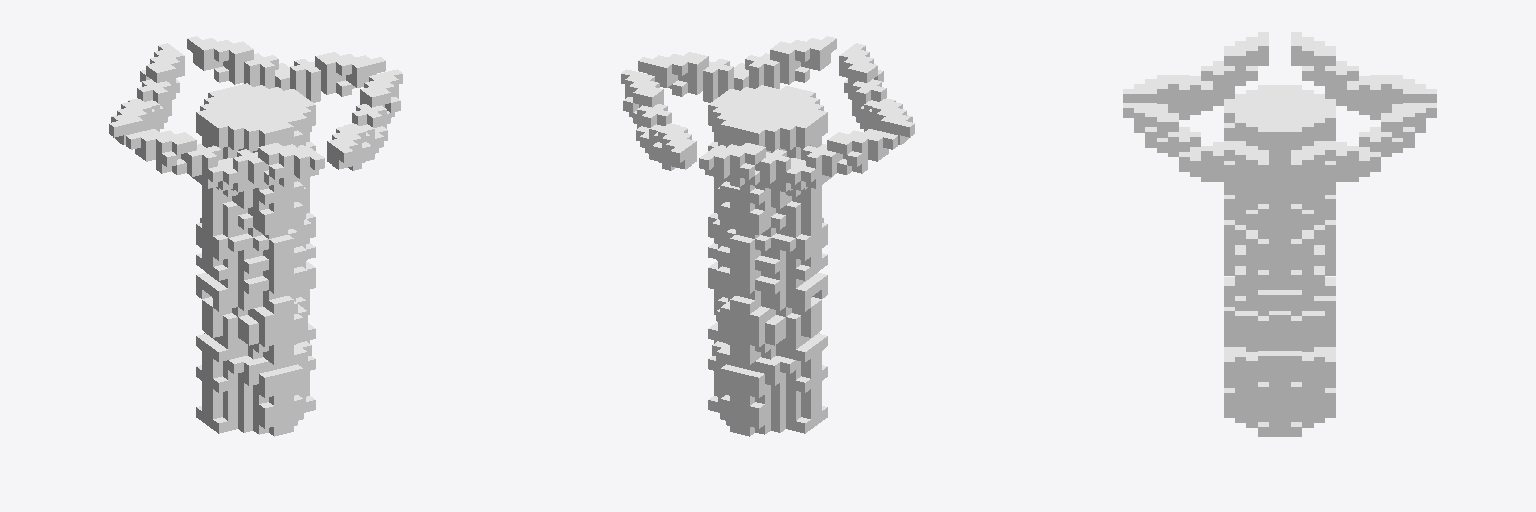
File: electroStation-0.obj
3 renders of one model, left to right at view 1: azimuth 30°, elevation 25°; view 2: azimuth 150°, elevation 25°; view 3: azimuth 270°, elevation 25°, orthographic.
Parts seen in each view (by area): view 1: object 1; view 2: object 1; view 3: object 1.
Part boxes in pixels (x1,y1,x2,y2): object 1: (109, 36, 402, 436); object 1: (621, 36, 914, 436); object 1: (1123, 32, 1436, 436).
Size of the model in its own units: 2.8 by 3.1 by 2.8.